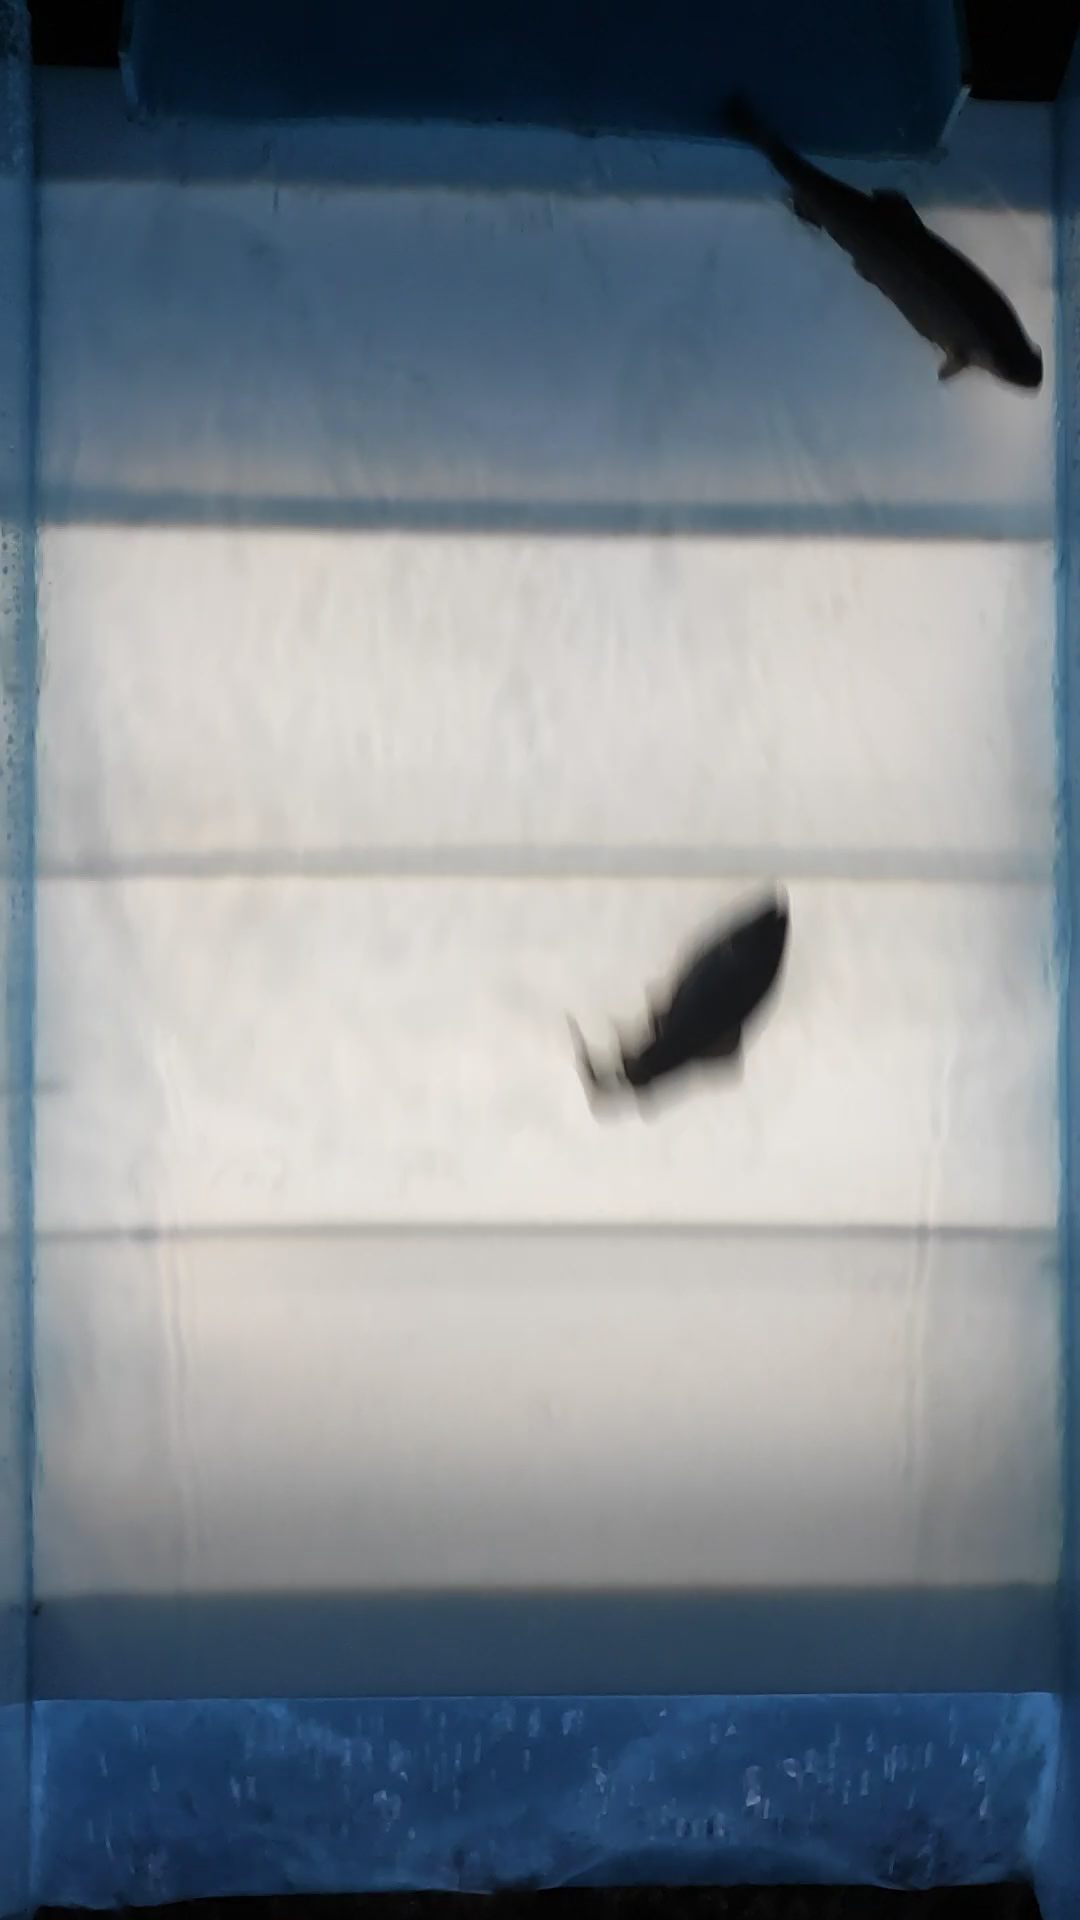fish: (704, 86, 1042, 401), (569, 892, 786, 1127)
